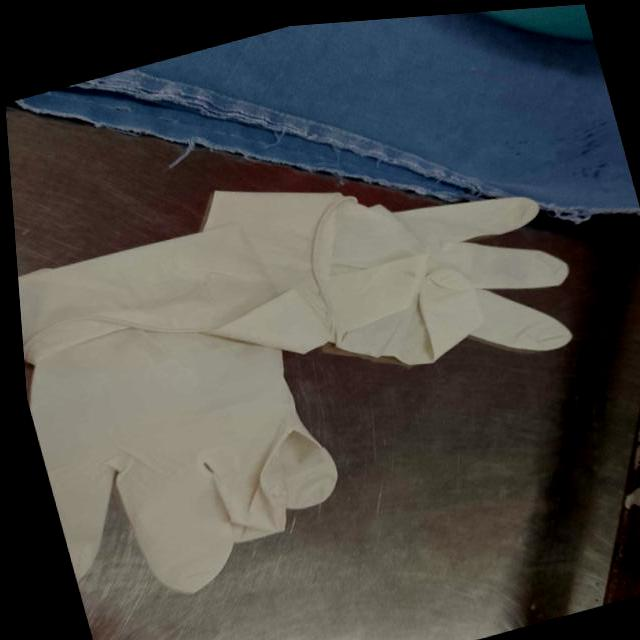General: (18, 186, 574, 596)
Infectious: (26, 326, 339, 594)
Sharps: (163, 136, 198, 172)
